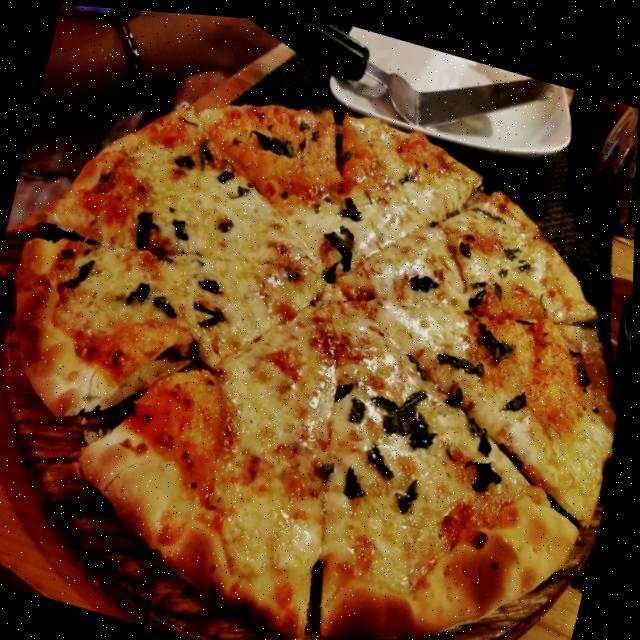pizza: (0, 20, 640, 640)
